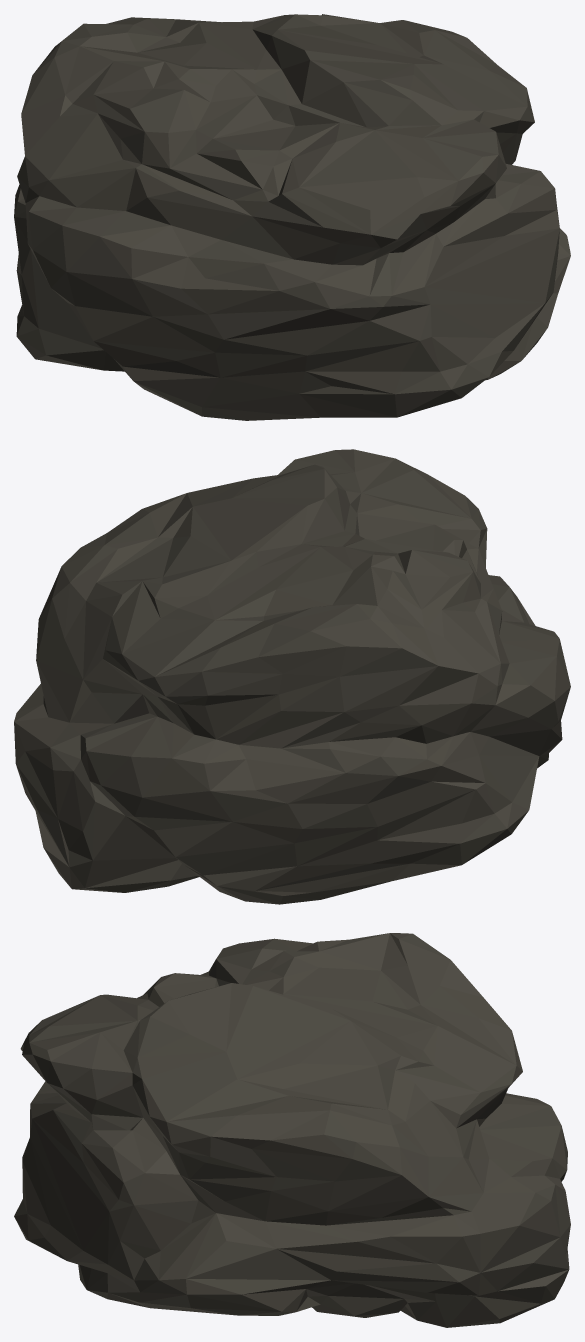
Rendered from synty-rock-cluster-large-04.gltf.
3 renders of one model, top to bottom at view 1: azimuth 30°, elevation 25°; view 2: azimuth 150°, elevation 25°; view 3: azimuth 270°, elevation 25°, orthographic. The views are drawn at different scales.
Parts seen in each view (by area): view 1: SM_Rock_Cluster_Large_04; view 2: SM_Rock_Cluster_Large_04; view 3: SM_Rock_Cluster_Large_04.
Boxes of the visible parts, x1=… form: SM_Rock_Cluster_Large_04: x1=14, y1=14, x2=570, y2=420; SM_Rock_Cluster_Large_04: x1=14, y1=449, x2=570, y2=904; SM_Rock_Cluster_Large_04: x1=14, y1=933, x2=570, y2=1327.
Bounding box in the file's own units: 15.59 × 9.8 × 16.72.
1 material, 1 textured.
